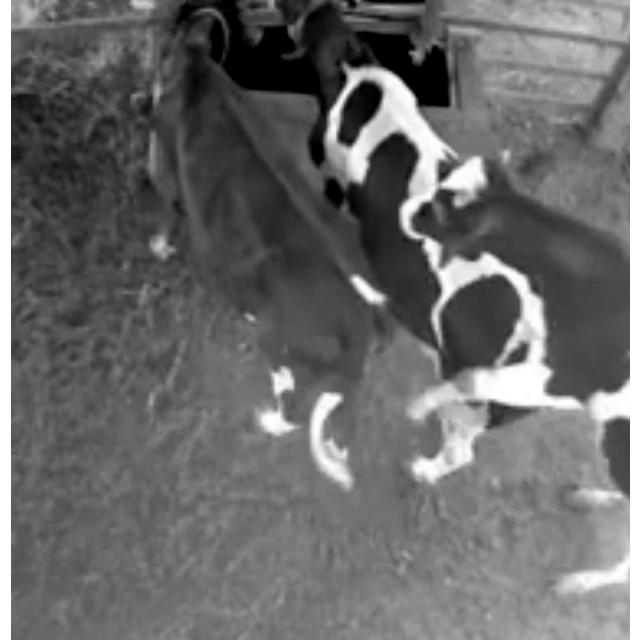drink: (149, 0, 267, 104), (276, 2, 394, 104)
